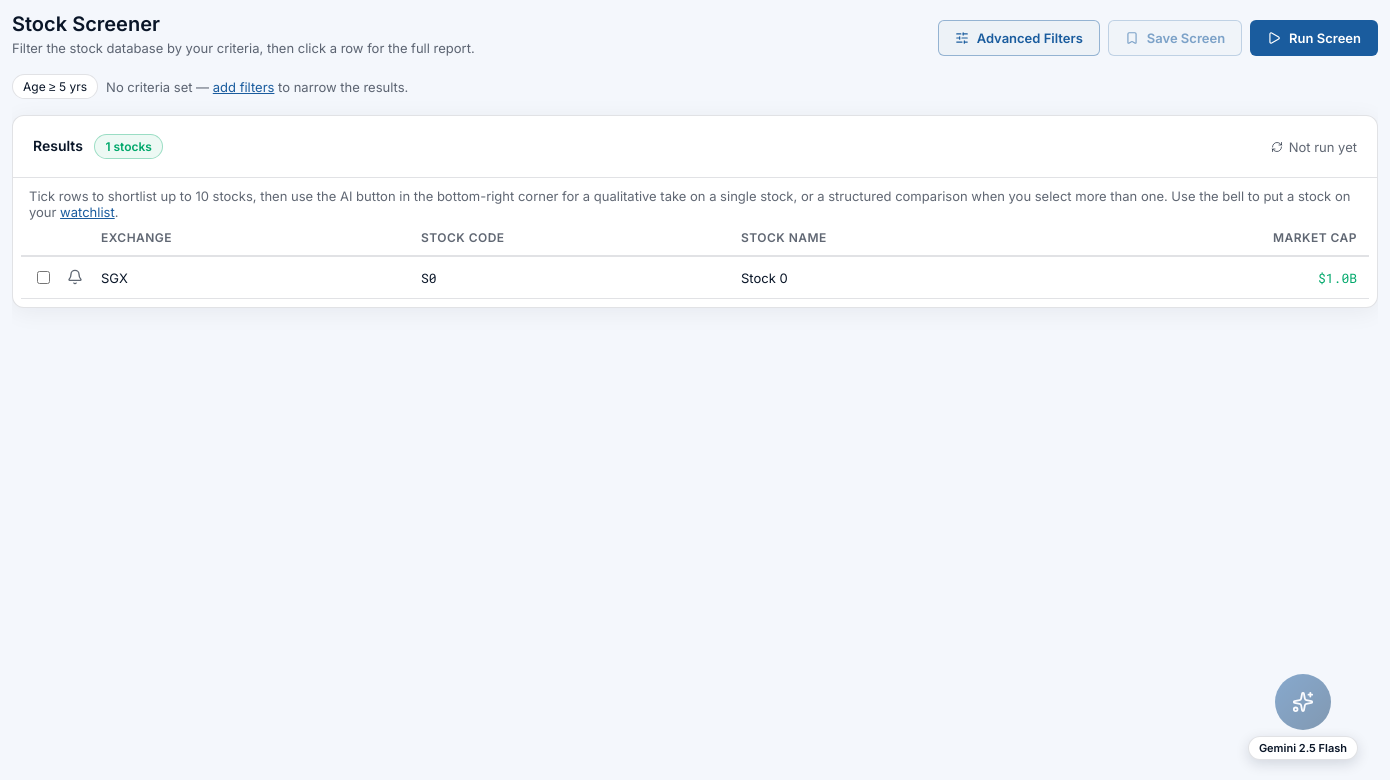
Screener - Analyze with AI › shows a single-stock write-up when exactly one stock is analyzed
The image size is (1390, 780).
Click the checkbox named "Select Stock 0" at (44, 278), box [37,271,50,284]
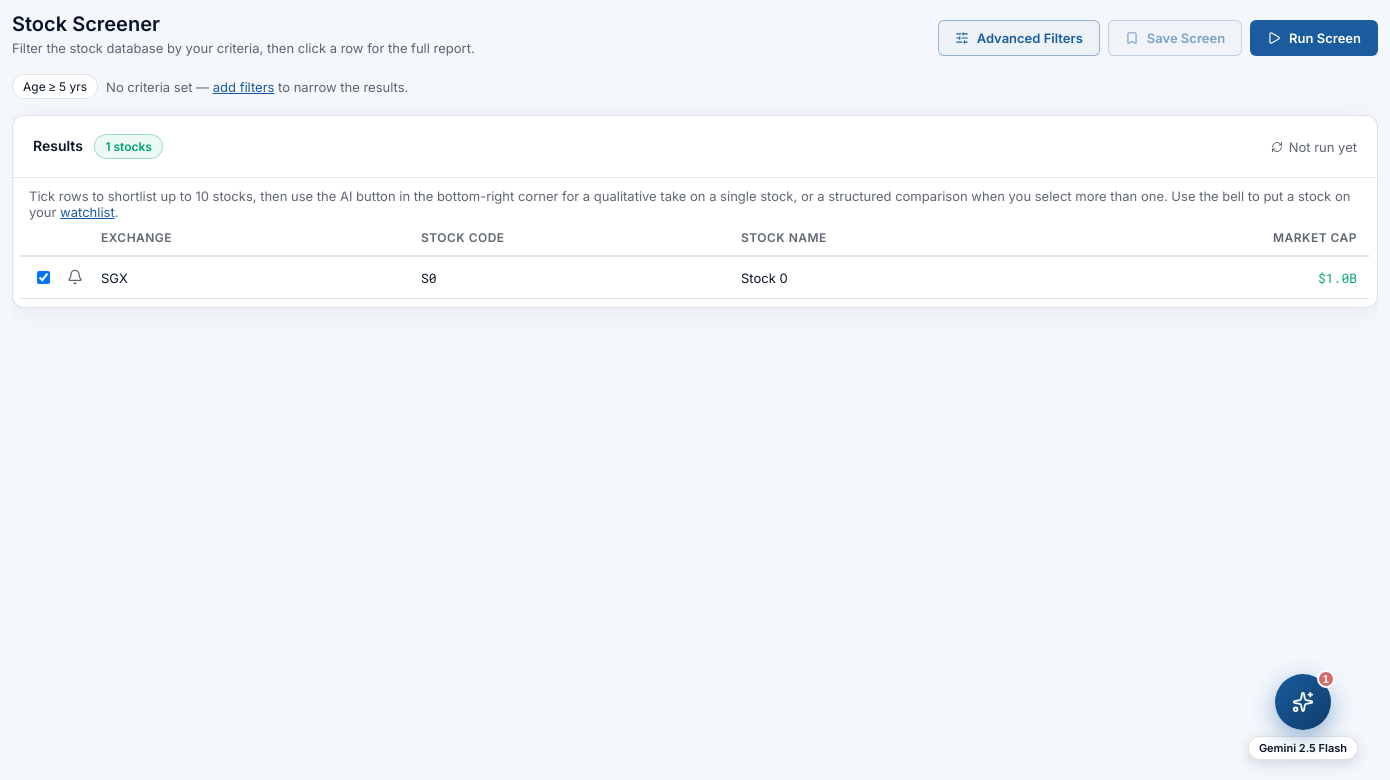
Click the button named "analyze 1 selected stock with ai" at (1303, 702), box [1275,674,1331,730]
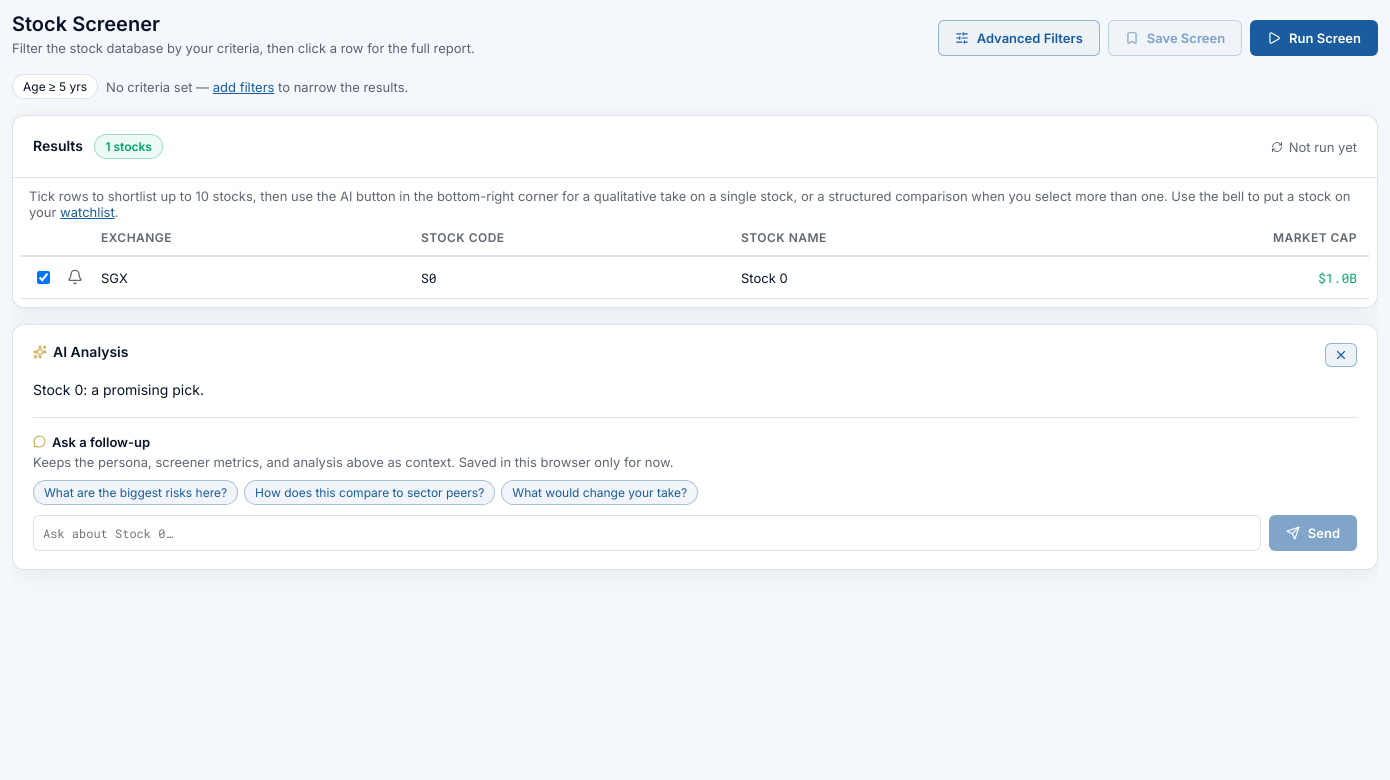
Expected: the text "Stock 0: a promising pick." is shown, [33,381,204,398]
